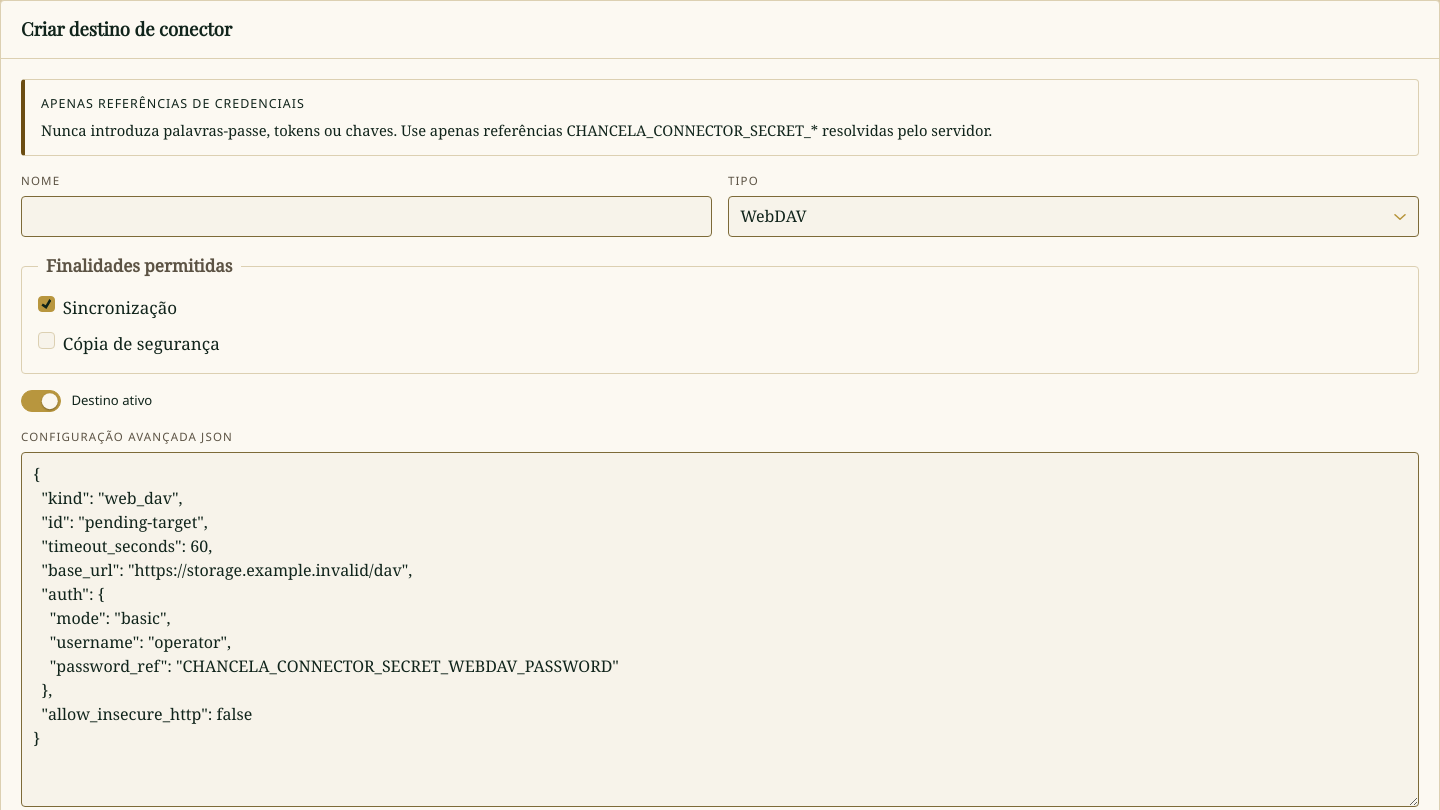
CreateConnectorForm › swaps the configuration template and narrows the purposes when the kind changes
Select "S3" in the dropdown labelled "Tipo" at (1074, 216), box [728,196,1419,237]
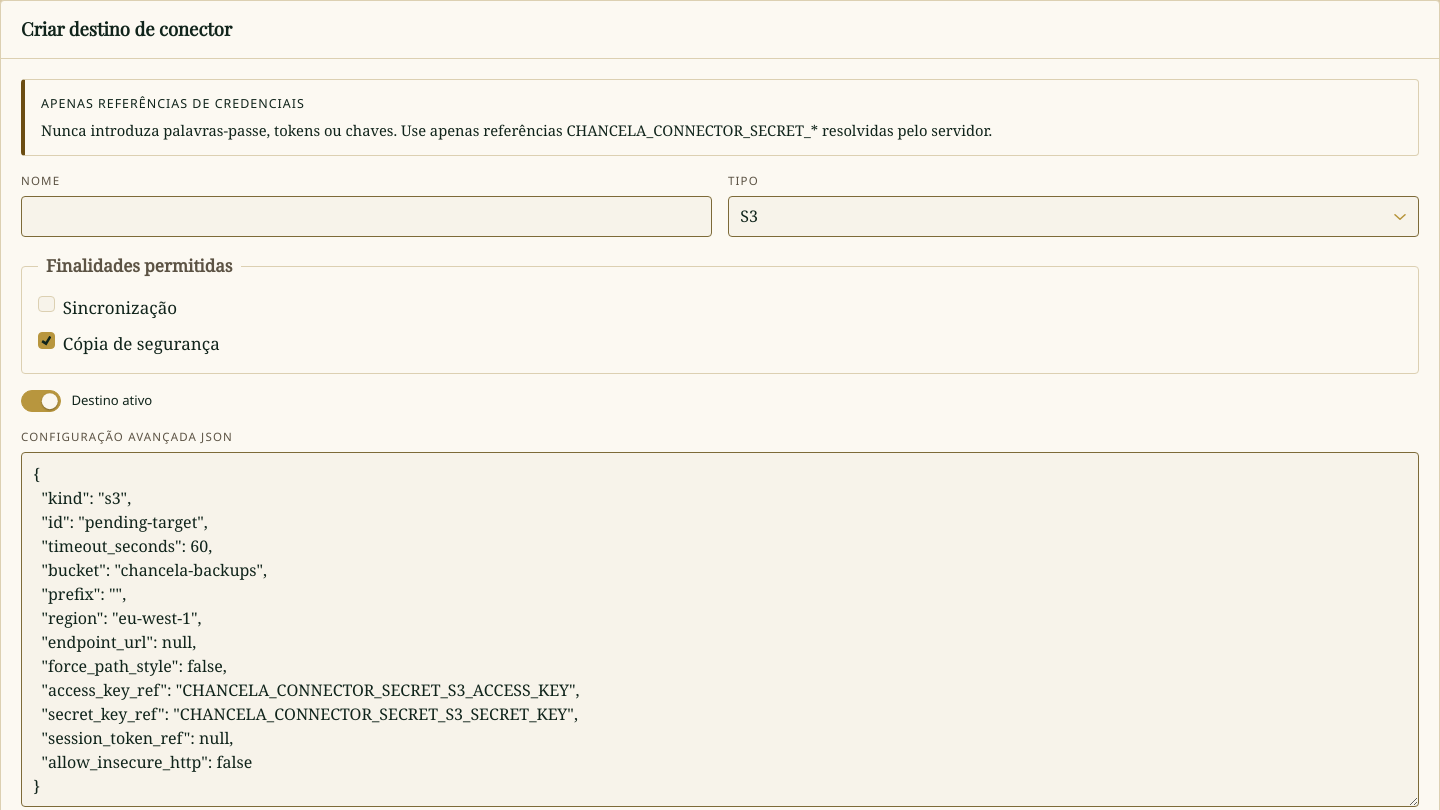
Now the checkbox labelled "Sincronização" is not checked, box [38,296,55,312]
Now the checkbox labelled "Cópia de segurança" is checked, box [38,332,55,349]
